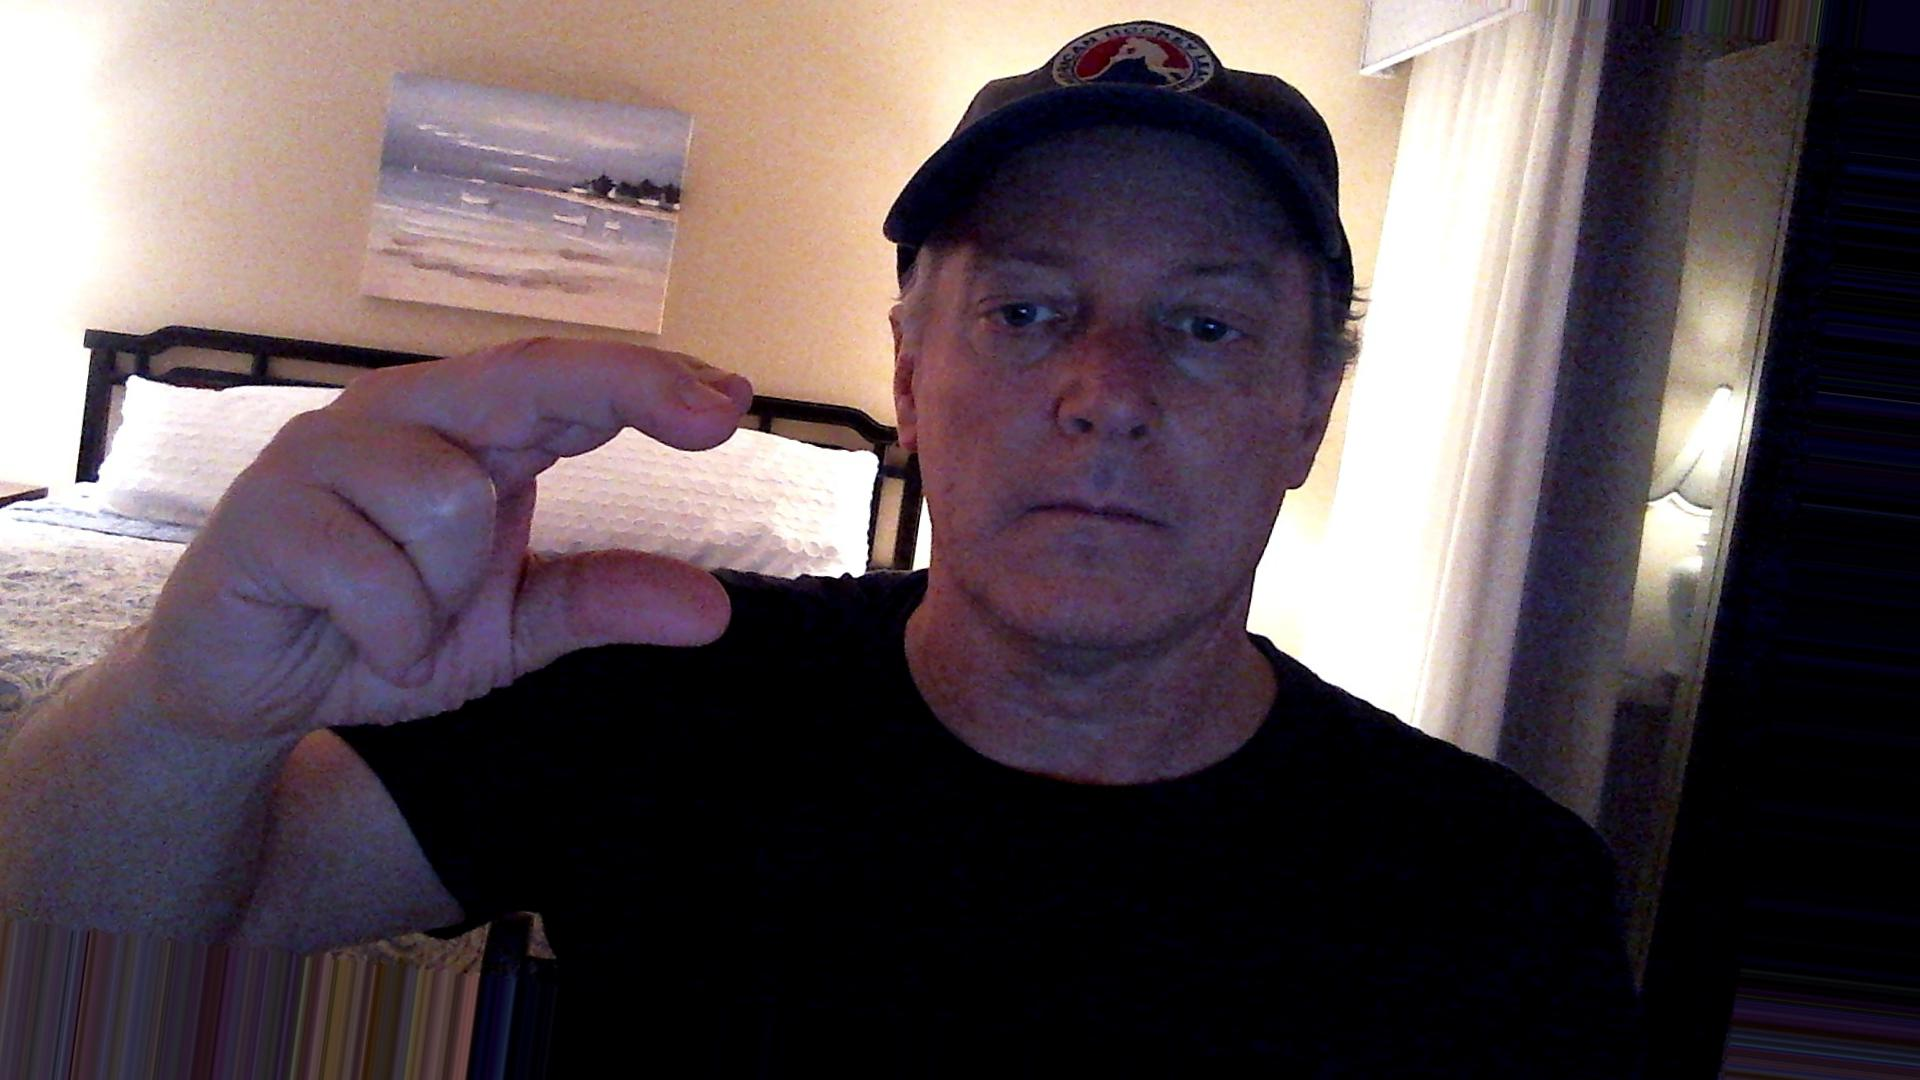No: (145, 318, 781, 760)
